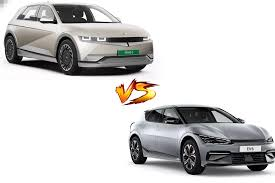Honda Ioniq: (1, 2, 169, 77)
